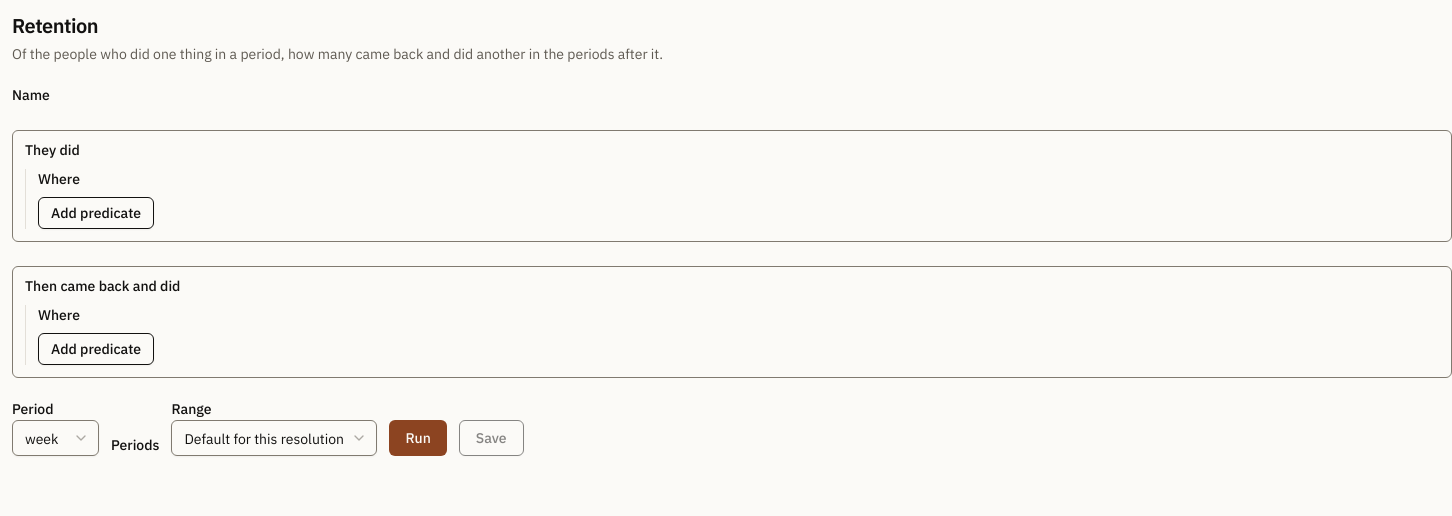
Test case: Retention › reports a failure instead of leaving the previous grid on screen
Click the button "Run" at (418, 438), box top-left (389, 420), bottom-right (447, 456)
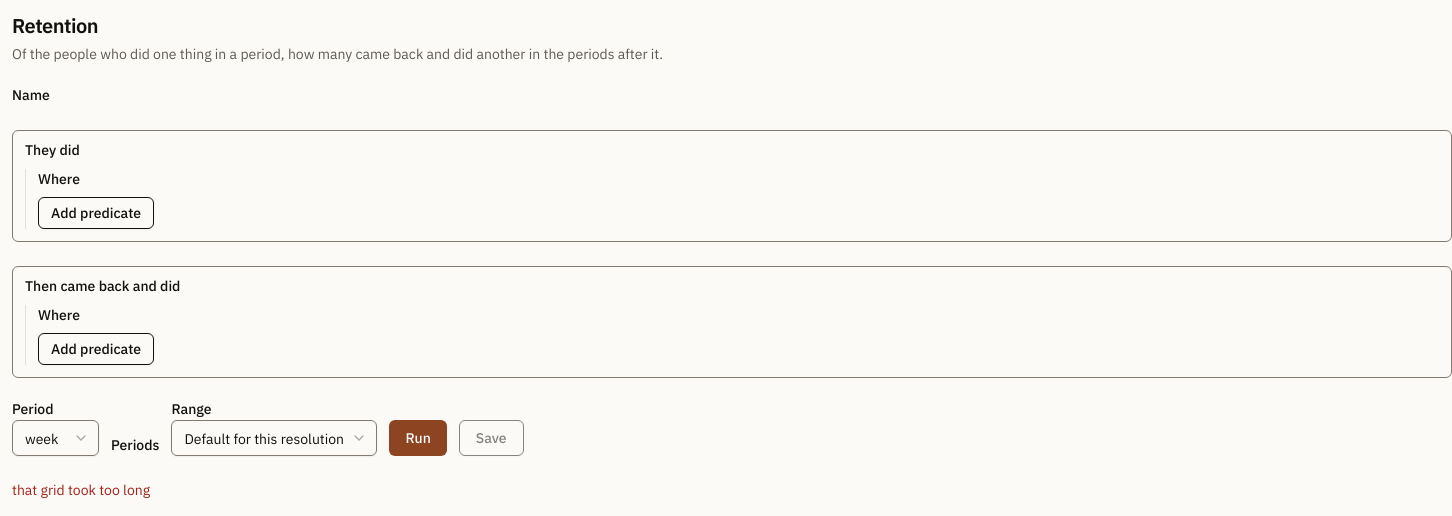
Result: the message shows "took too long" at top-left (12, 481), bottom-right (150, 499)
